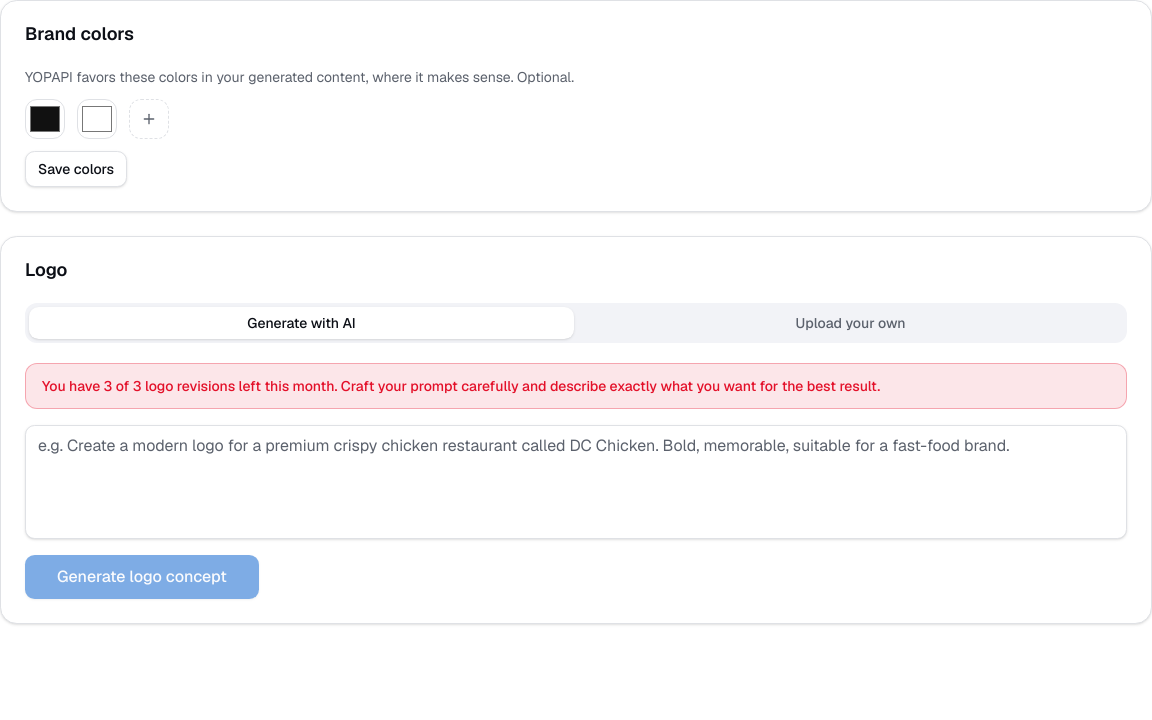
GenerateLogoForm › switches to the upload field when 'Upload your own' is selected
Click the button "Upload your own".
click(850, 323)  # box [578, 307, 1123, 339]
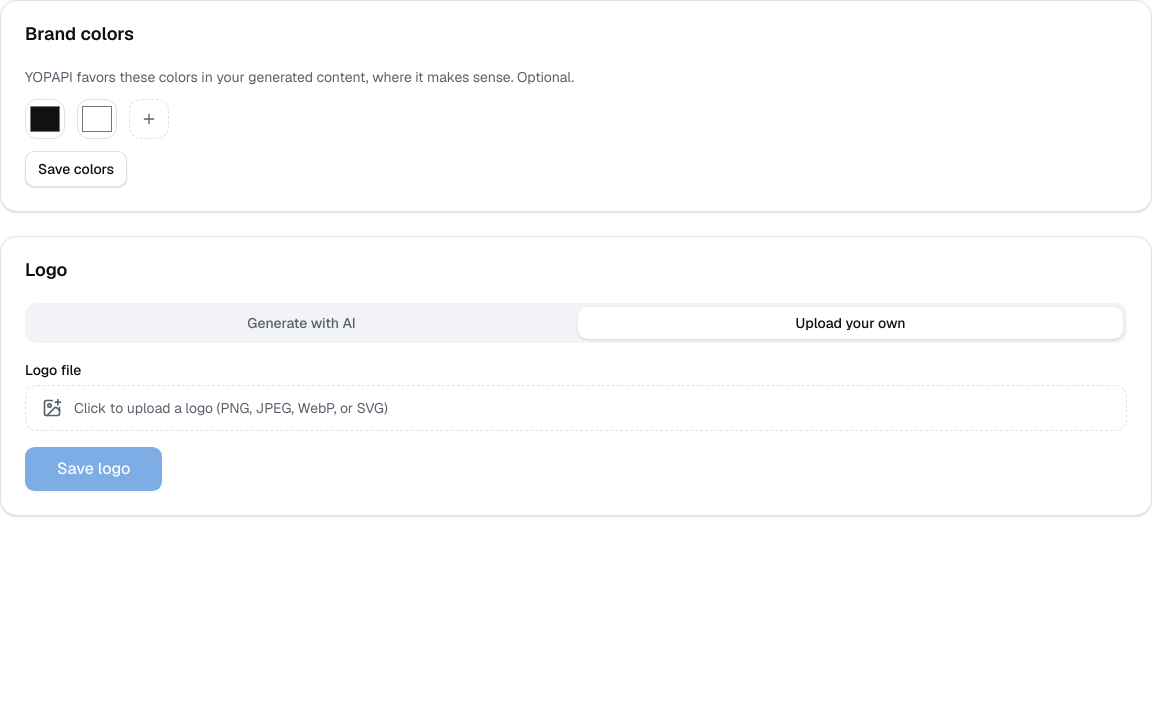
Expected: the field with placeholder "create a modern logo" is not shown
Now the file field labelled "Logo file" is shown, box [25, 361, 81, 379]
